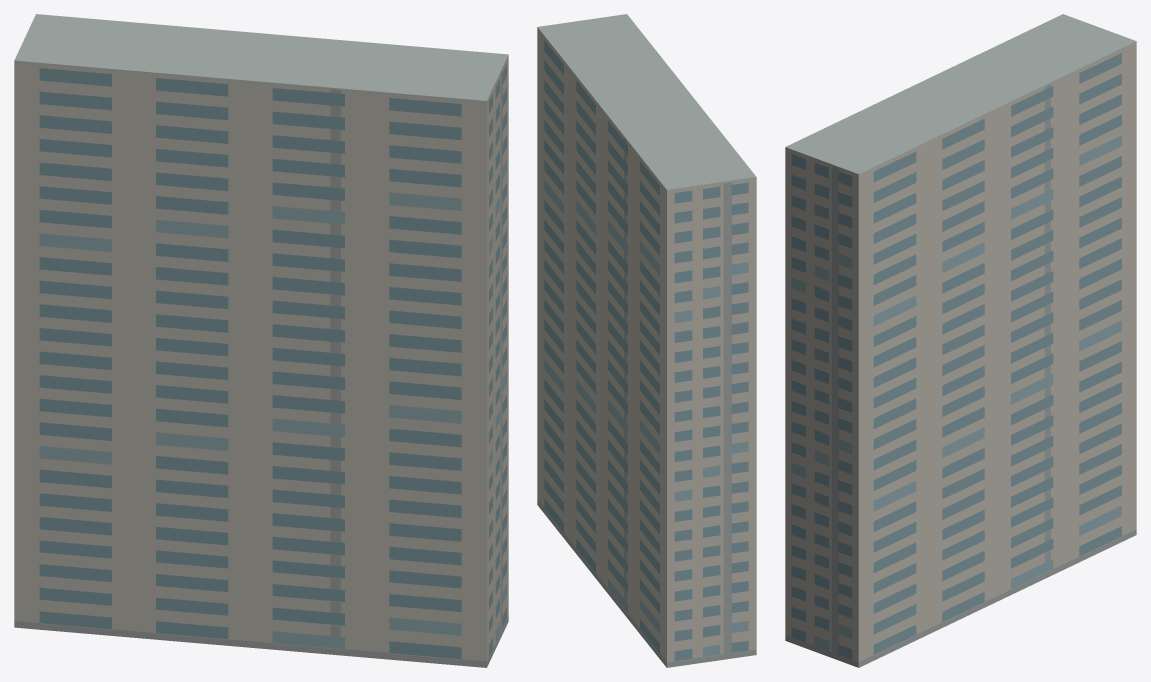
Rendered from residential-790f943f-cfd4-42aa-ba64-3572d98baff2.glb.
3 views of the same model, side by side, from view 1: azimuth 30°, elevation 25°; view 2: azimuth 150°, elevation 25°; view 3: azimuth 270°, elevation 25° (orthographic). The views are drawn at different scales.
Visible parts, largest first — view 1: residential-790f943f-cfd4-42aa-ba64-3572d98baff2.tmp; view 2: residential-790f943f-cfd4-42aa-ba64-3572d98baff2.tmp; view 3: residential-790f943f-cfd4-42aa-ba64-3572d98baff2.tmp.
Part boxes in pixels (x1=…): residential-790f943f-cfd4-42aa-ba64-3572d98baff2.tmp: x1=14, y1=14, x2=508, y2=667; residential-790f943f-cfd4-42aa-ba64-3572d98baff2.tmp: x1=537, y1=14, x2=756, y2=667; residential-790f943f-cfd4-42aa-ba64-3572d98baff2.tmp: x1=785, y1=14, x2=1136, y2=667.
Bounding box in the file's own units: 47.34 × 68 × 43.89.
